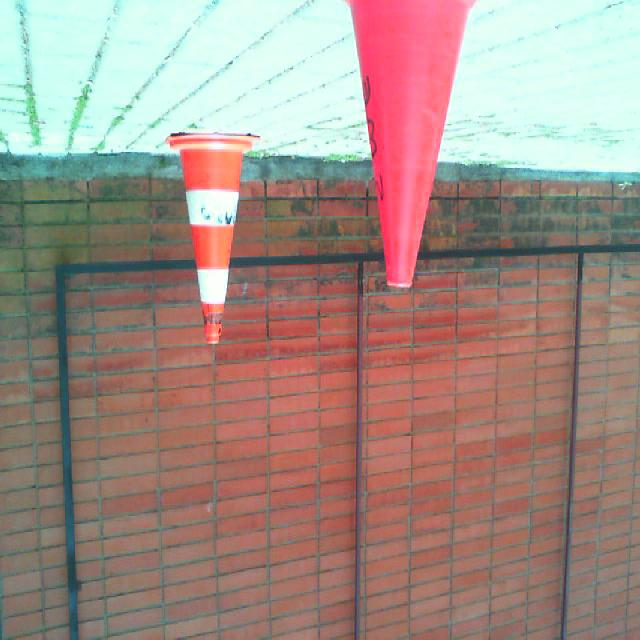cone: (344, 0, 476, 288), (164, 133, 261, 344)
